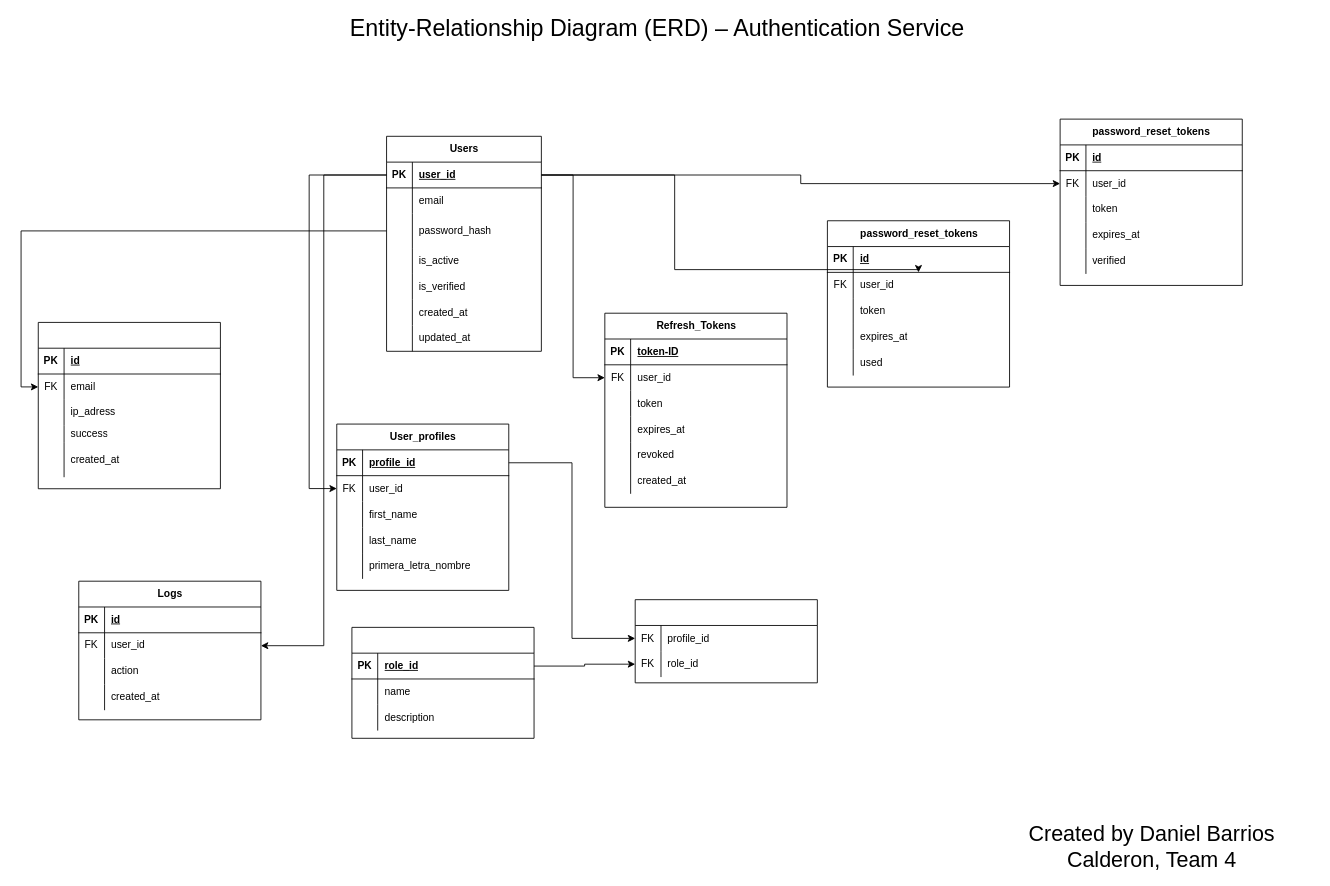
This 1330x886 diagram has some shape labels left out. Here are the shapes that lost their labels. From the top down, the box of each, then its label:
(37, 322, 220, 489): login_attempts
(634, 599, 817, 683): User_roles
(351, 627, 534, 738): Roles
